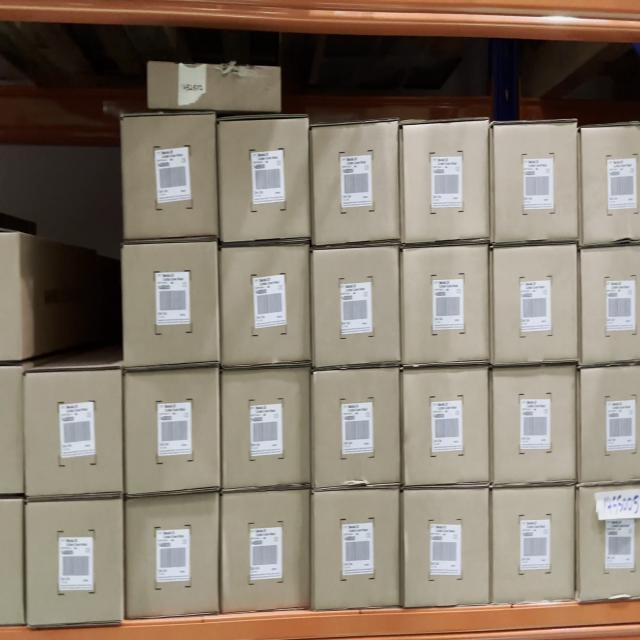box: (26, 371, 121, 494), (26, 503, 124, 621), (124, 243, 218, 364), (125, 114, 215, 238), (125, 372, 218, 491), (221, 118, 308, 241), (220, 248, 311, 364), (312, 122, 399, 242), (126, 499, 218, 612), (223, 369, 310, 488), (402, 248, 490, 363), (492, 124, 577, 243), (223, 494, 310, 610), (312, 492, 400, 606), (403, 123, 488, 240), (404, 368, 489, 485), (490, 248, 578, 360), (402, 490, 490, 602), (492, 368, 576, 484), (314, 371, 398, 486), (312, 255, 400, 364), (491, 490, 573, 599), (580, 129, 640, 245), (578, 487, 640, 599), (579, 251, 640, 360), (579, 371, 640, 480), (149, 63, 281, 108)
